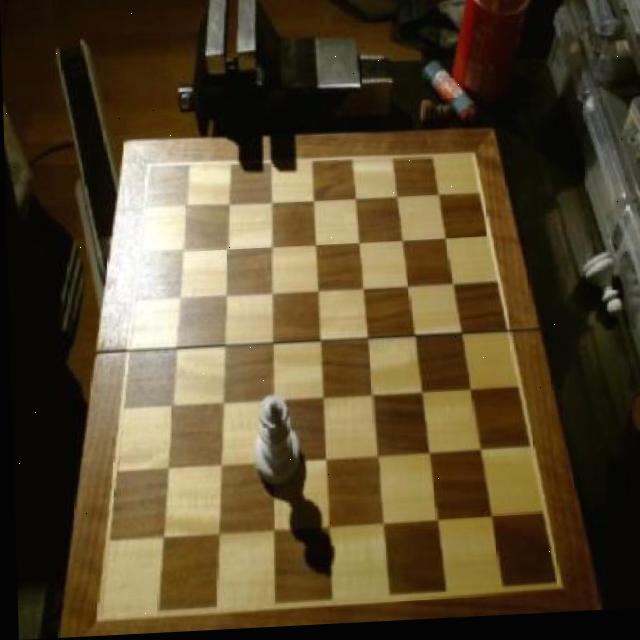white-pawn: (249, 393, 301, 494)
